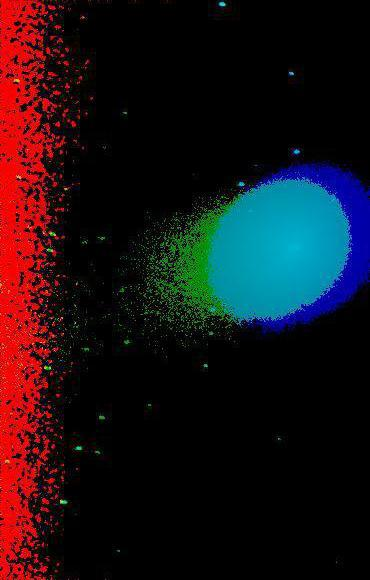star: (212, 476, 242, 506)
